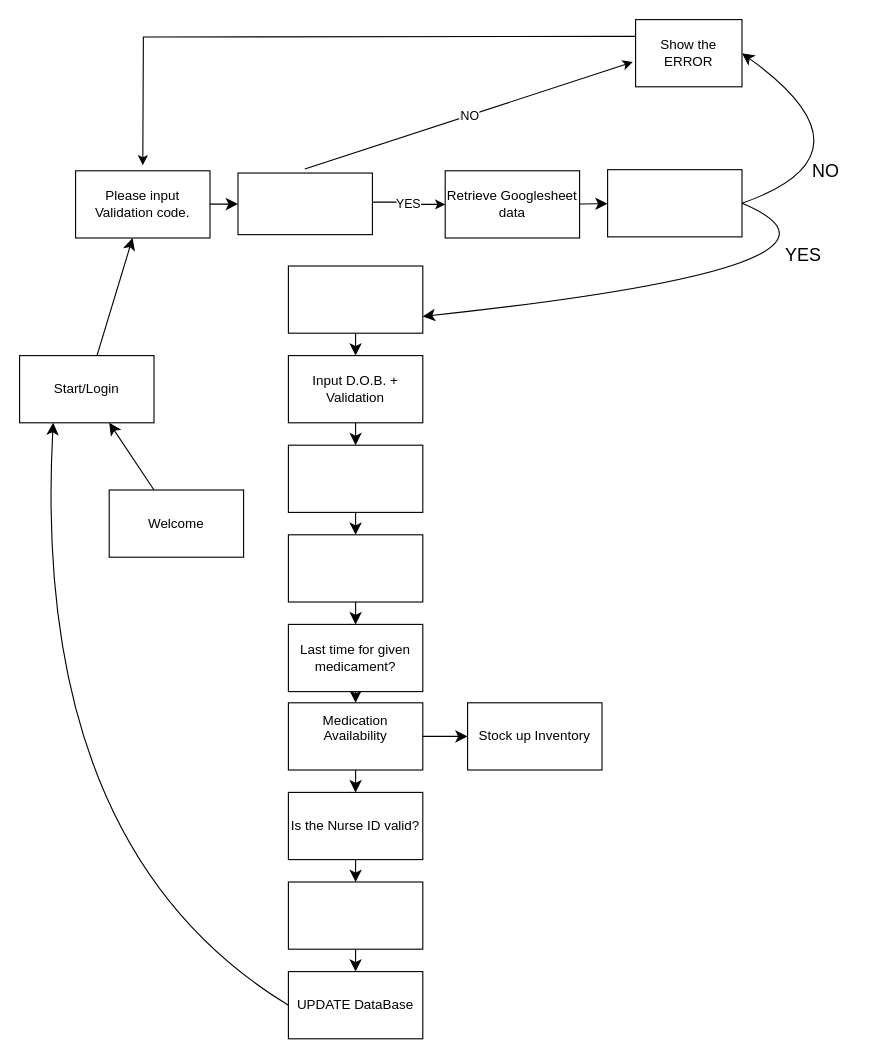
The diagram is 879 pixels wide and 1058 high, and some of its shapes have lost their labels. Here are the shapes that lost their labels. From the top down, the centre of each, then its label:
the point at 304,203: is code valid
the point at 674,203: Is the verification code in the Database?
the point at 355,299: Input Name + Validation
the point at 355,478: Input Medication Name
the point at 355,568: Last data on Medication
the point at 355,915: Confirm Issue Medication
